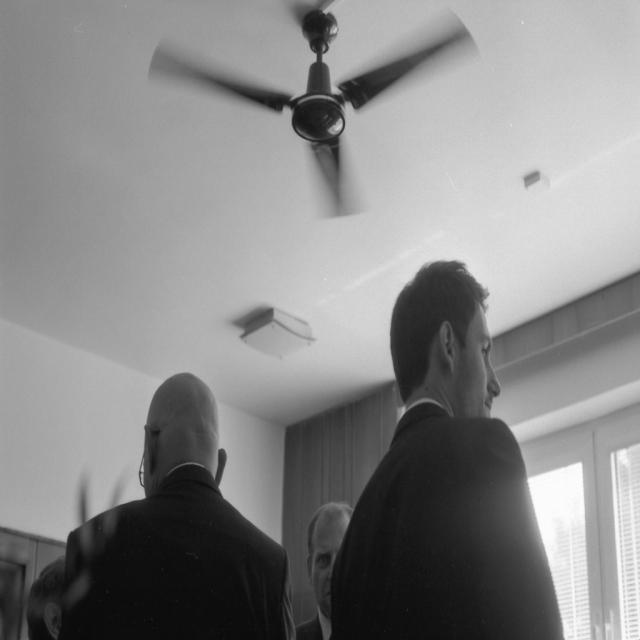fan_on: (154, 0, 480, 221)
